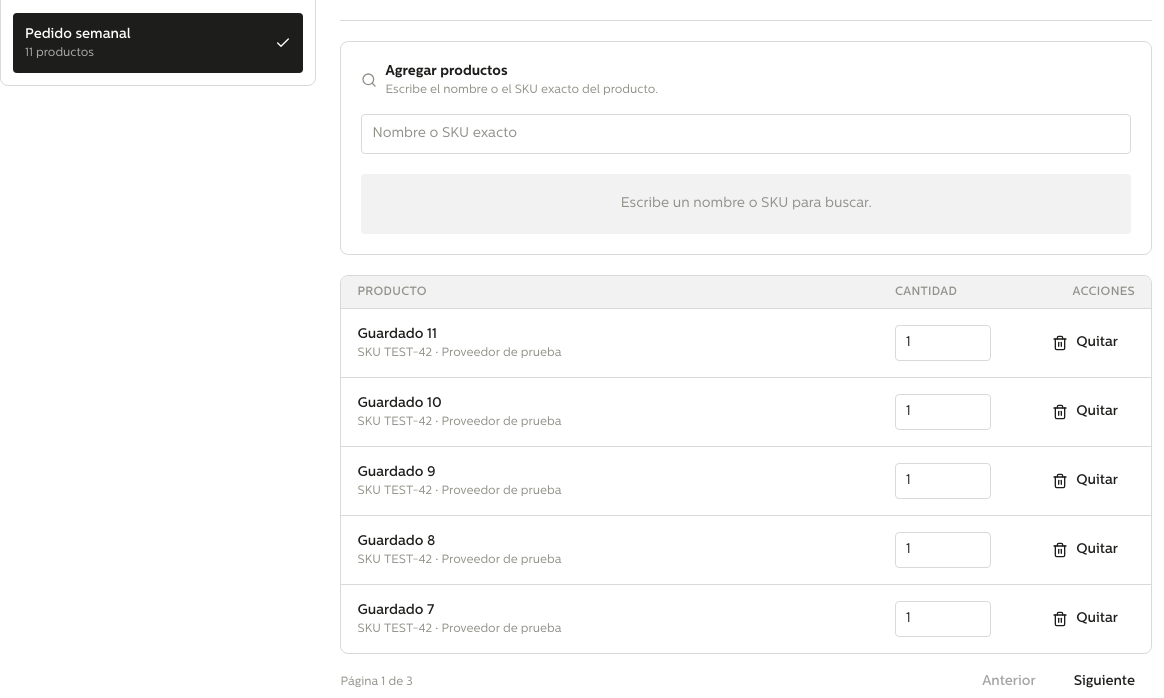
Test: editor de pedidos › limpia y enfoca la búsqueda después de agregar el producto
(page scrolled)
Click the button "Siguiente": (1104, 682) [1057,666,1152,697]
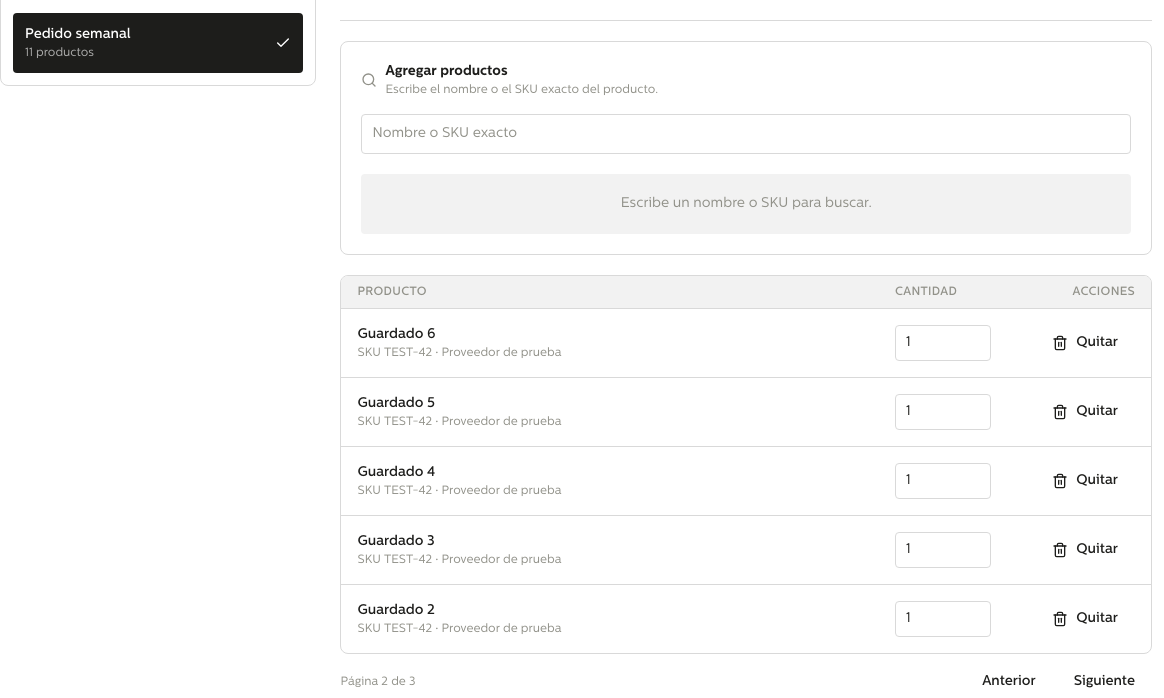
In the field with placeholder "Nombre o SKU exacto": (746, 134) [362,114,1131,154], type "001-A"
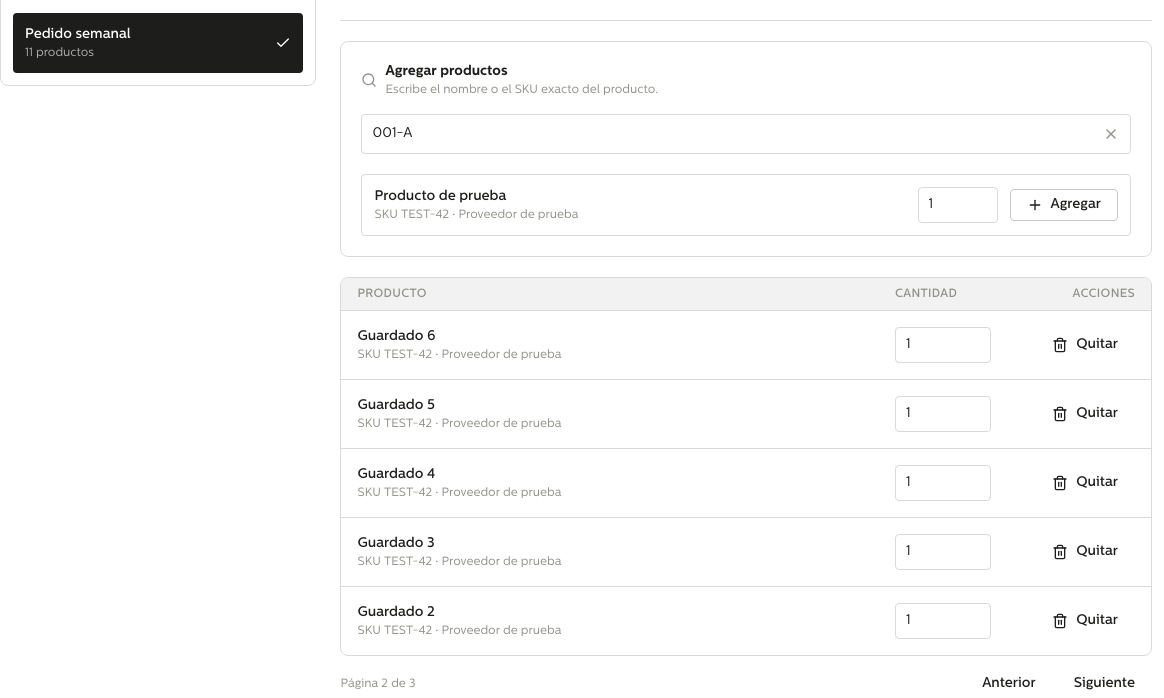
expect the button "Agregar" is enabled: met, box [1010,189,1118,221]
Replace the text in the number field named "Cantidad para agregar Producto de prueba" with "12": (958, 205) [918,187,998,223]
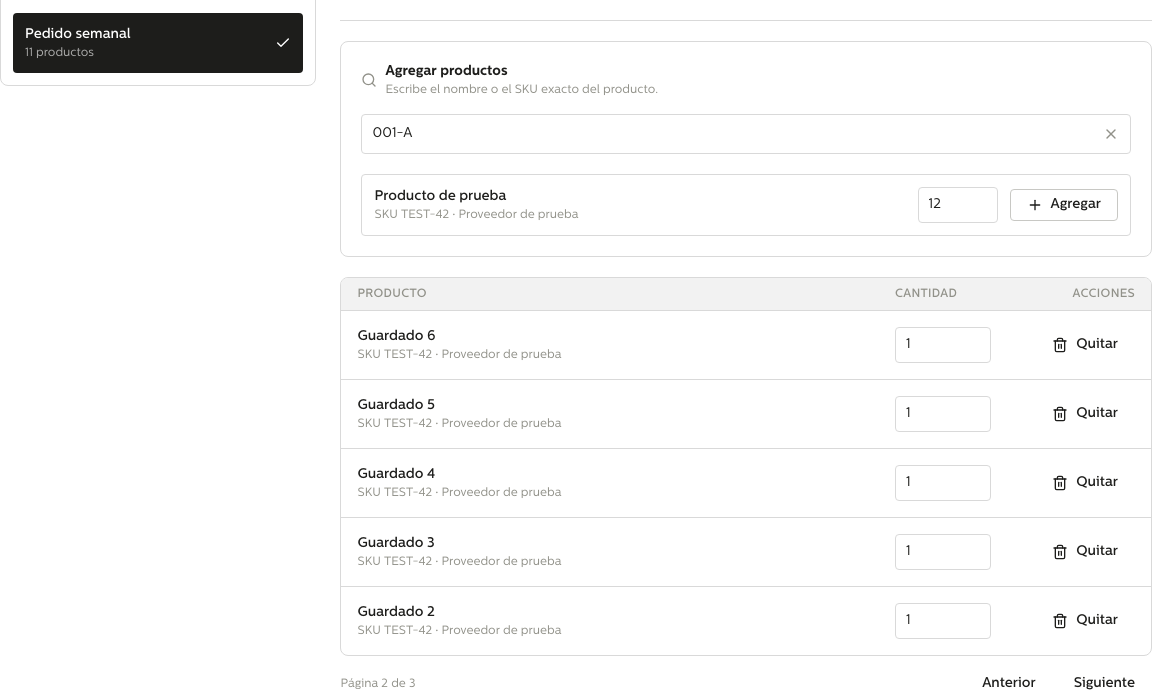
Click the button "Agregar": (1064, 205) [1010,189,1118,221]
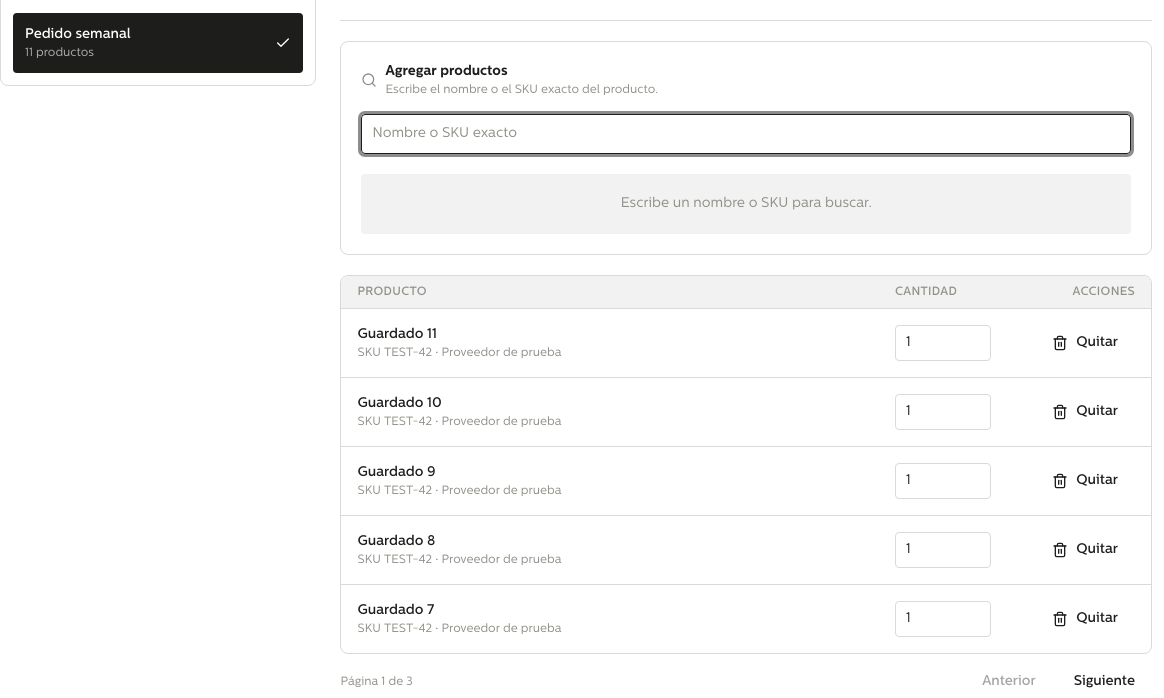
expect the field with placeholder "Nombre o SKU exacto" is empty: met, box [362,114,1131,154]
expect the text "Página 1 de 3" is shown: met, box [340,674,413,690]
